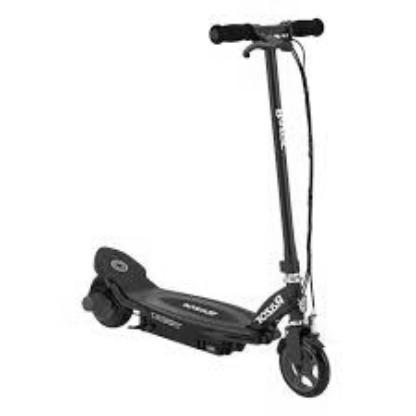bike: (81, 15, 332, 399), (81, 246, 330, 399)
